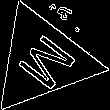M_SE: (7, 26, 79, 94)
